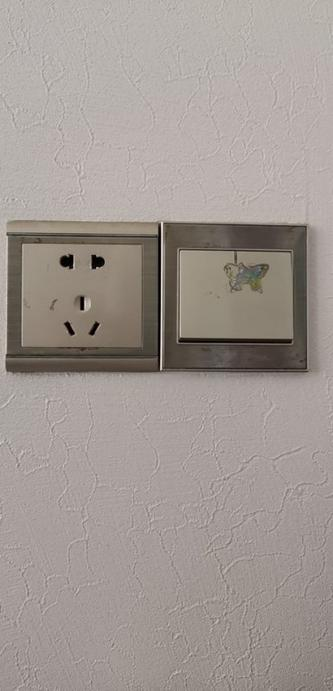switch: (171, 238, 306, 352)
